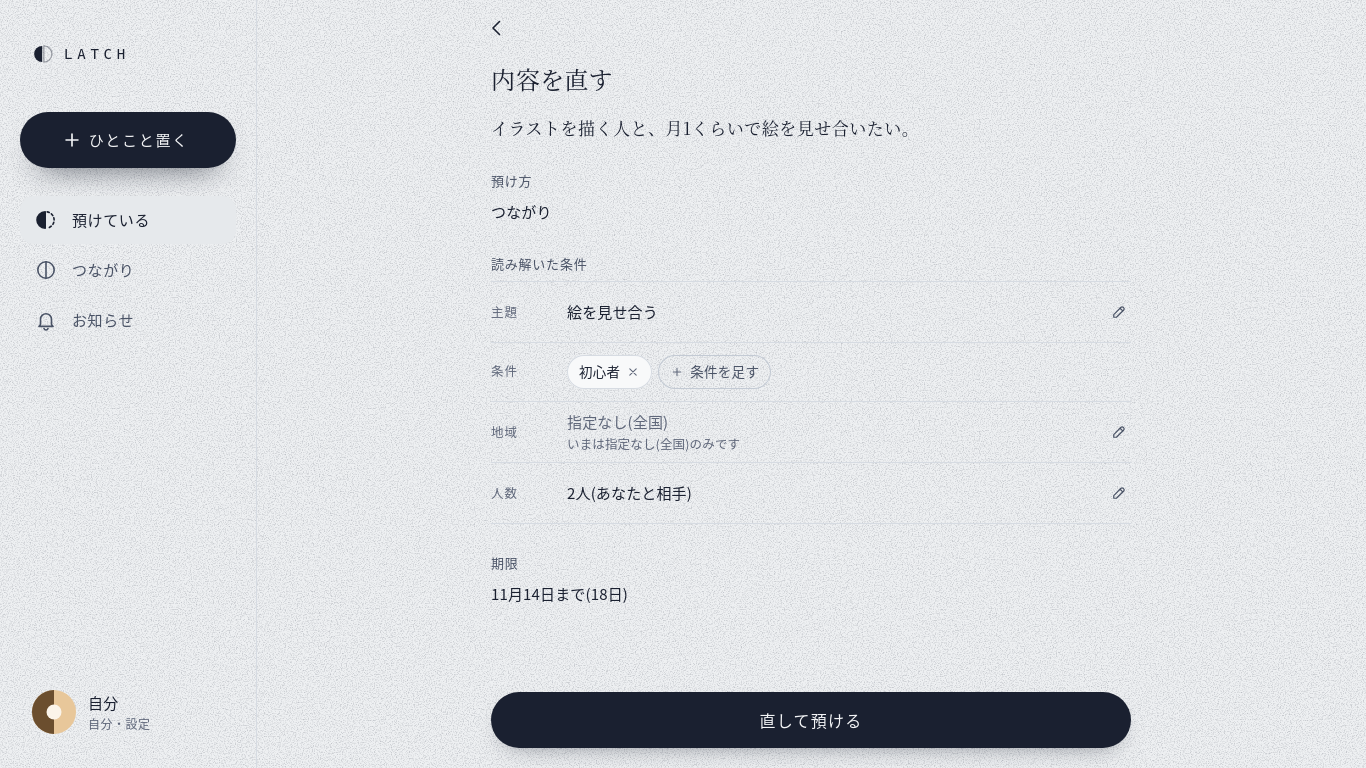
Test: IntentEdit › 429(更新6回/時間)は理由ごとの案内を出す(05 §3.1)
Click the button named "主題を直す" at (1119, 312), box [1097,290,1141,334]
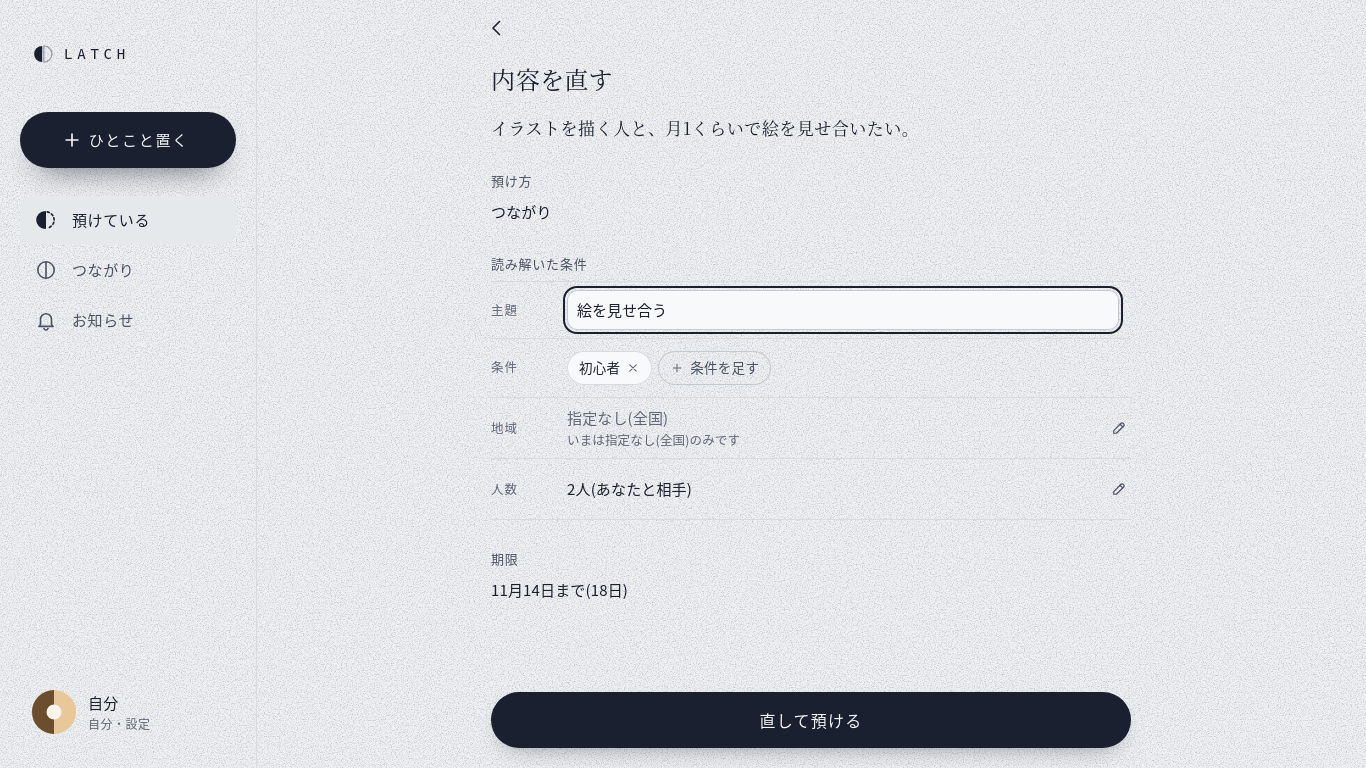
Replace the text in the field named "主題" with "新しい主題" at (843, 310), box [567,290,1119,330]
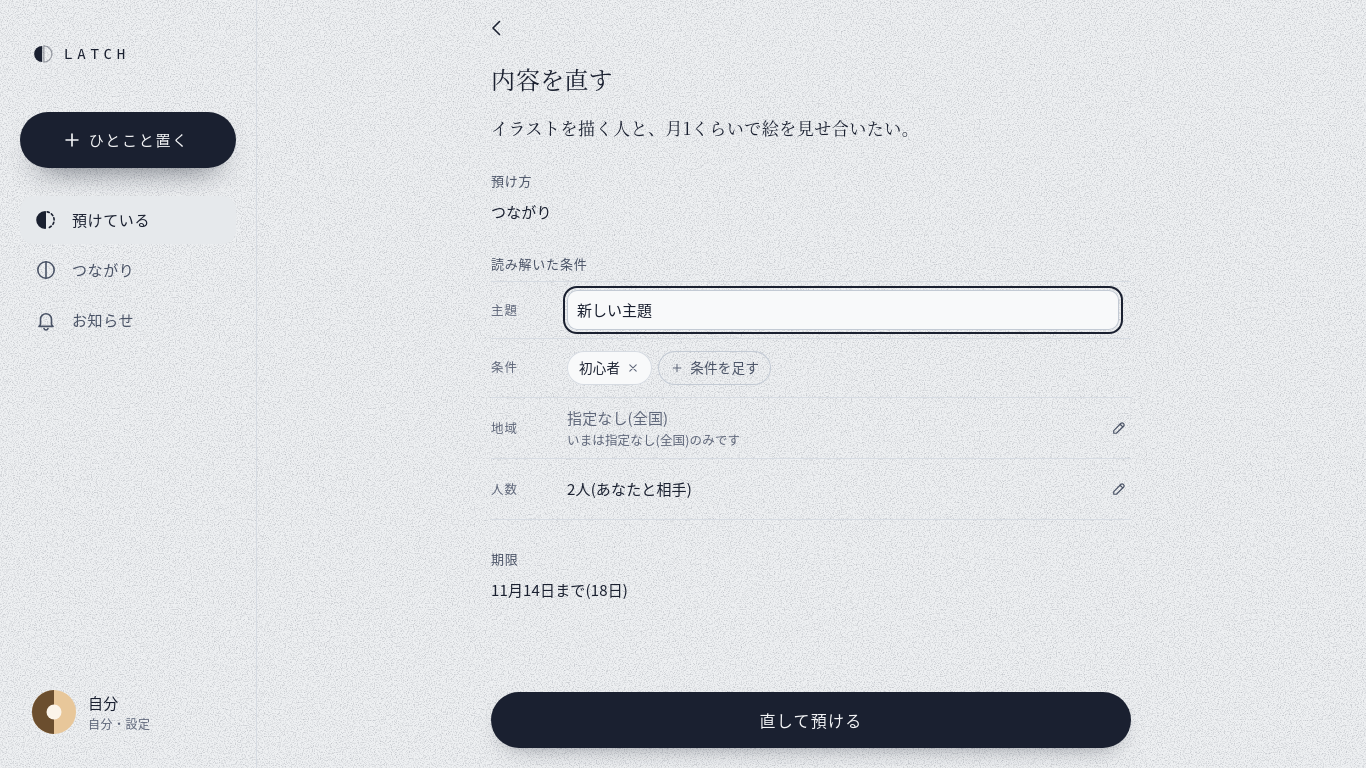
Press Enter in the field named "主題", box [567,290,1119,330]
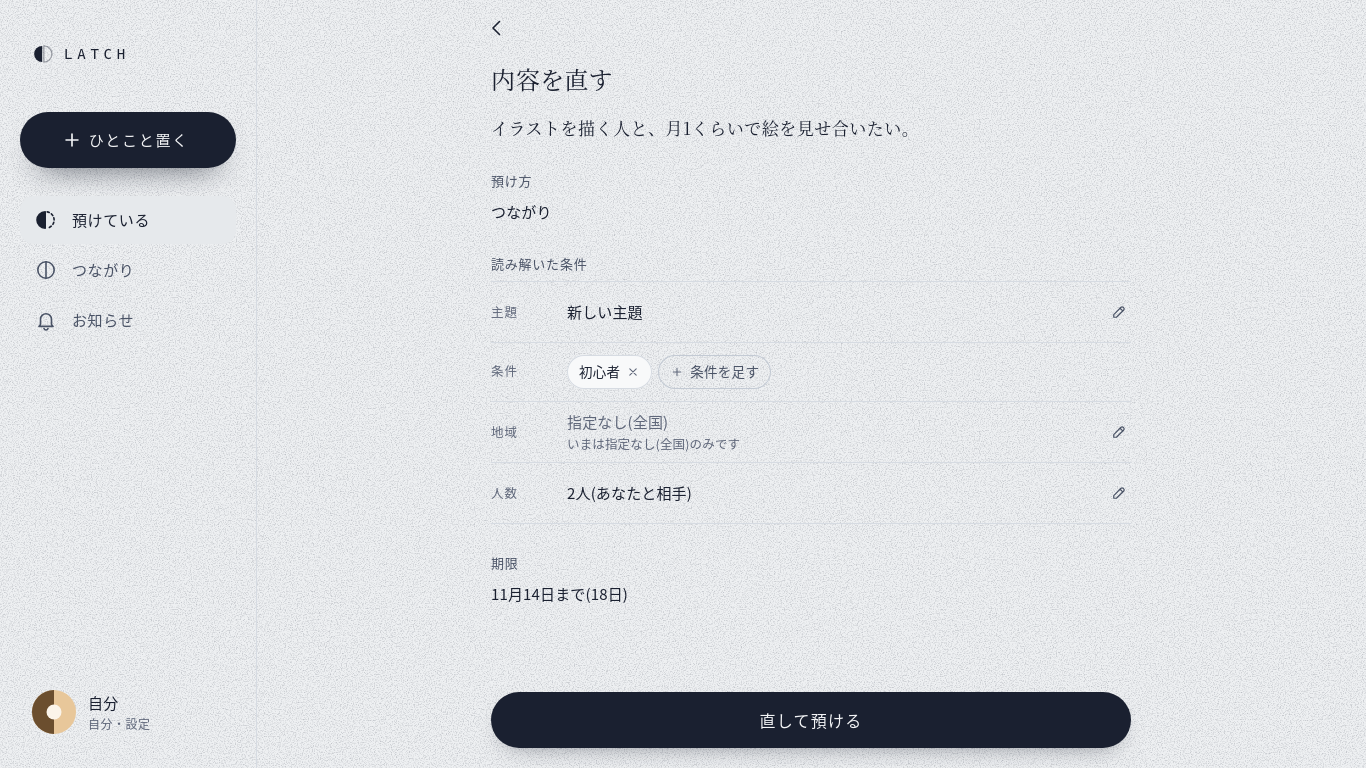
Click the button "直して預ける" at (811, 720), box [491,692,1131,748]
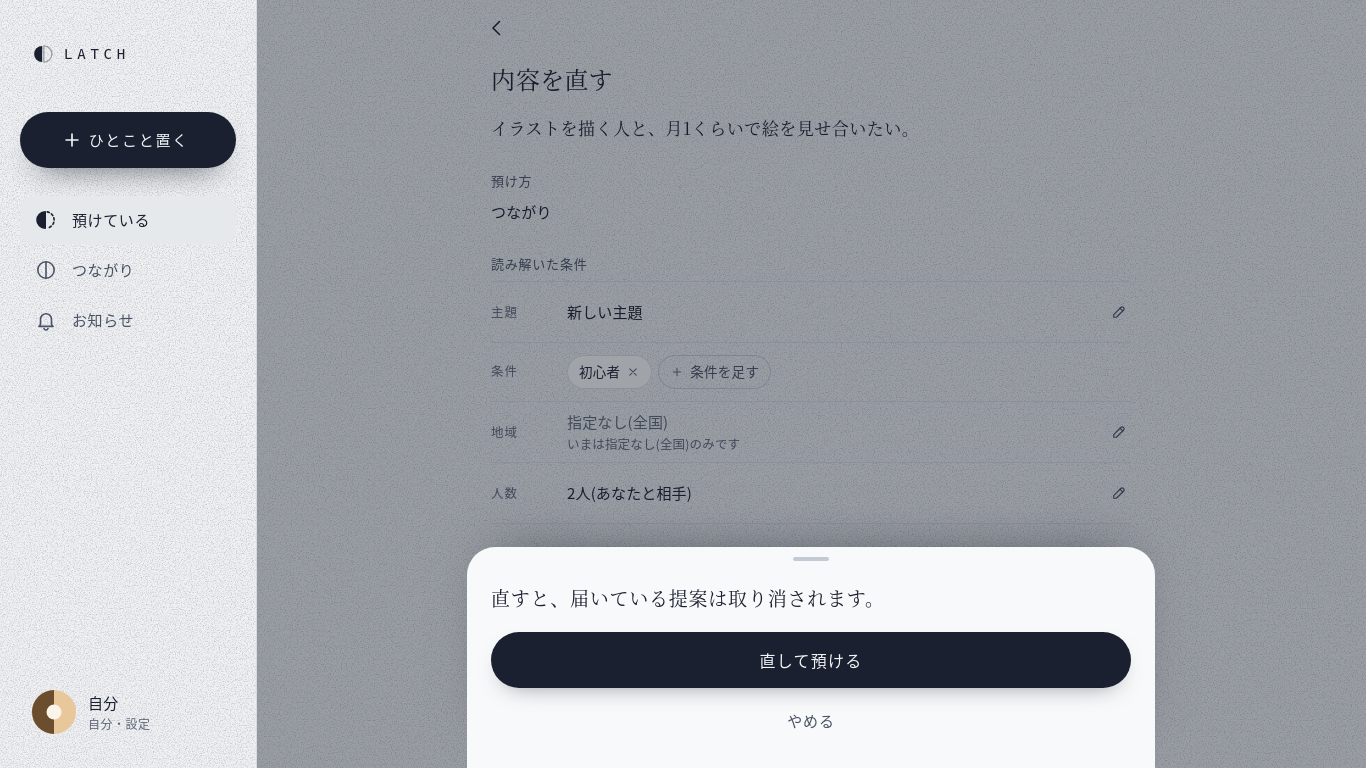
Click the button with class "btn--primary" showing "直して預ける" at (811, 660), box [491,632,1131,688]
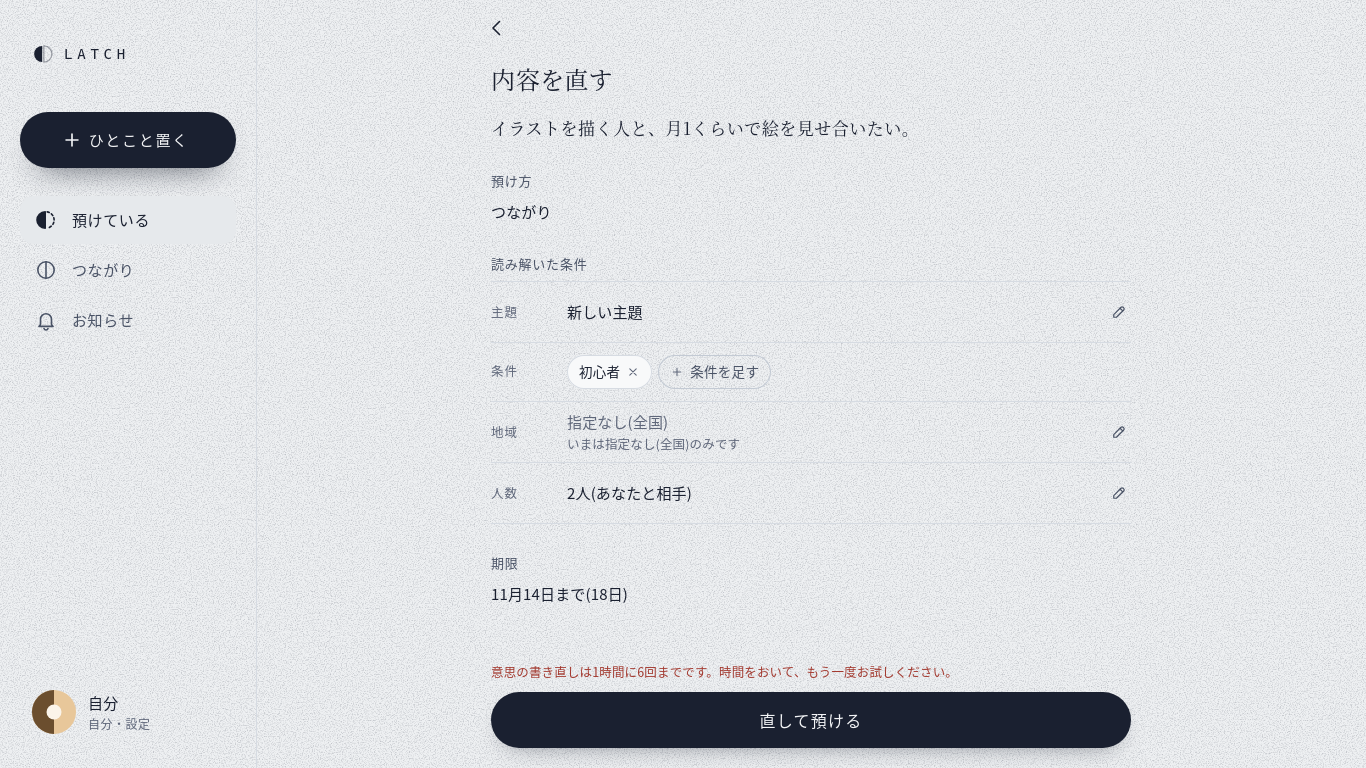
Now the text "意思の書き直しは1時間に6回までです。時間をおいて、もう一度お試しください。" is shown, box [491,662,958,681]
Now the dialog is gone
